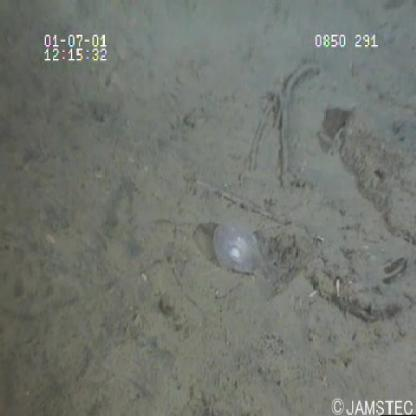Rác: (206, 215, 268, 287)
